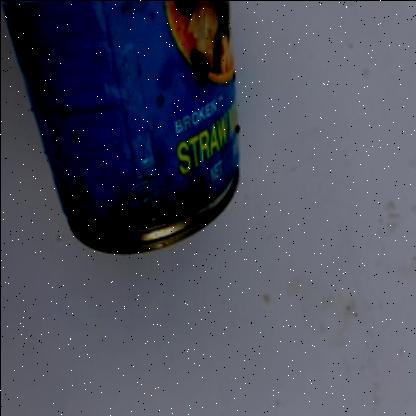Can: (5, 0, 238, 258)
